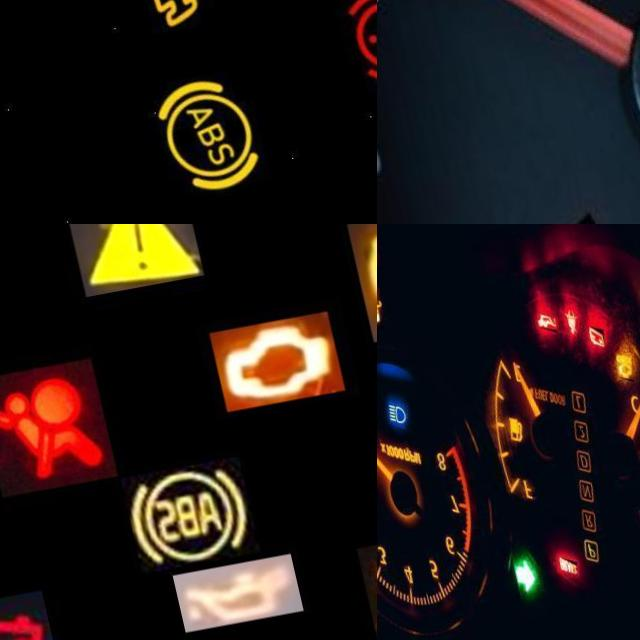Central Warning lamp: (57, 224, 193, 306)
